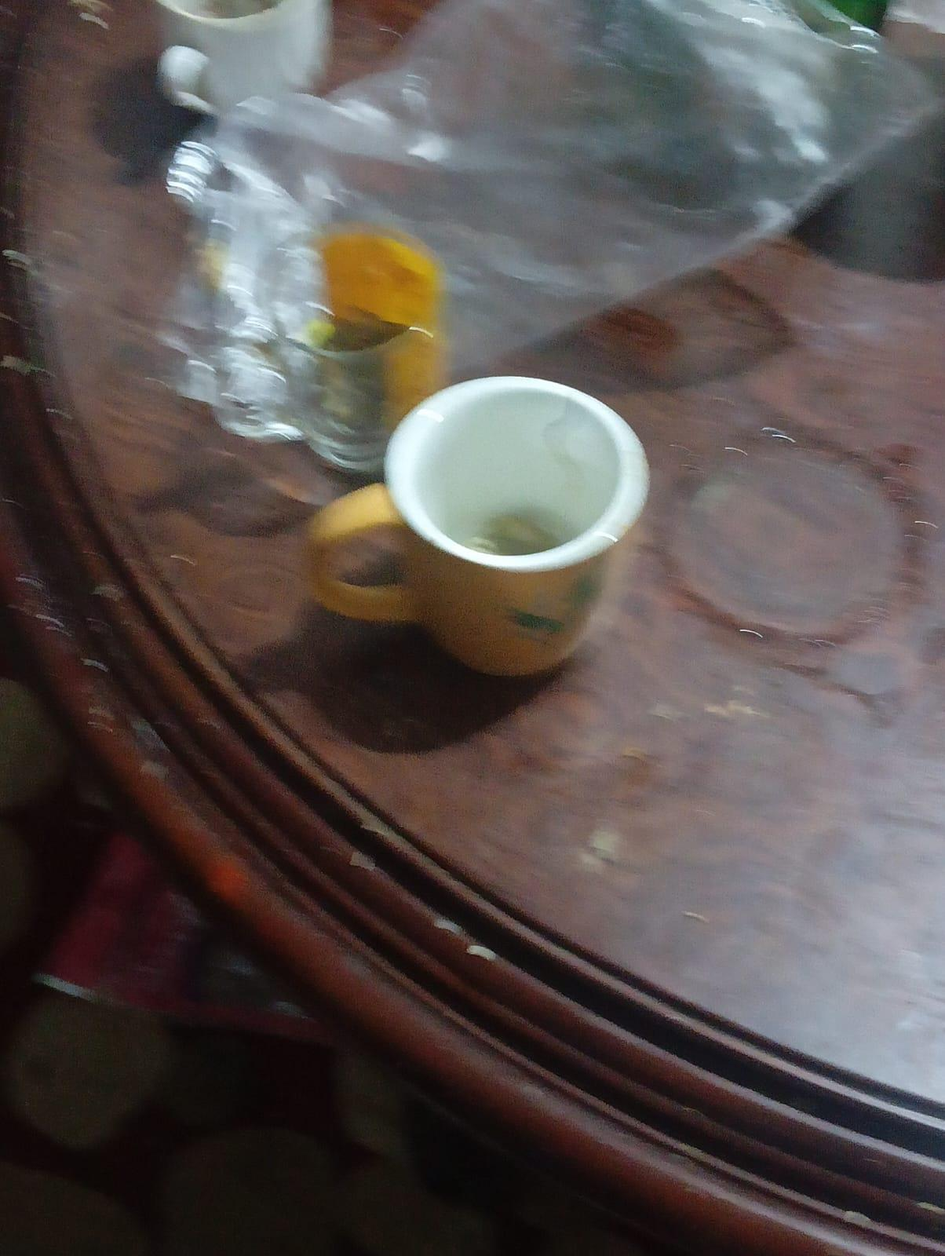cup: (308, 377, 648, 675), (221, 236, 440, 477), (155, 0, 330, 114), (319, 225, 443, 343)
